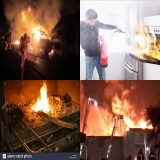fire: (134, 22, 160, 61), (121, 108, 155, 131), (31, 80, 49, 112), (31, 25, 48, 45), (103, 127, 119, 136), (13, 38, 20, 46)
